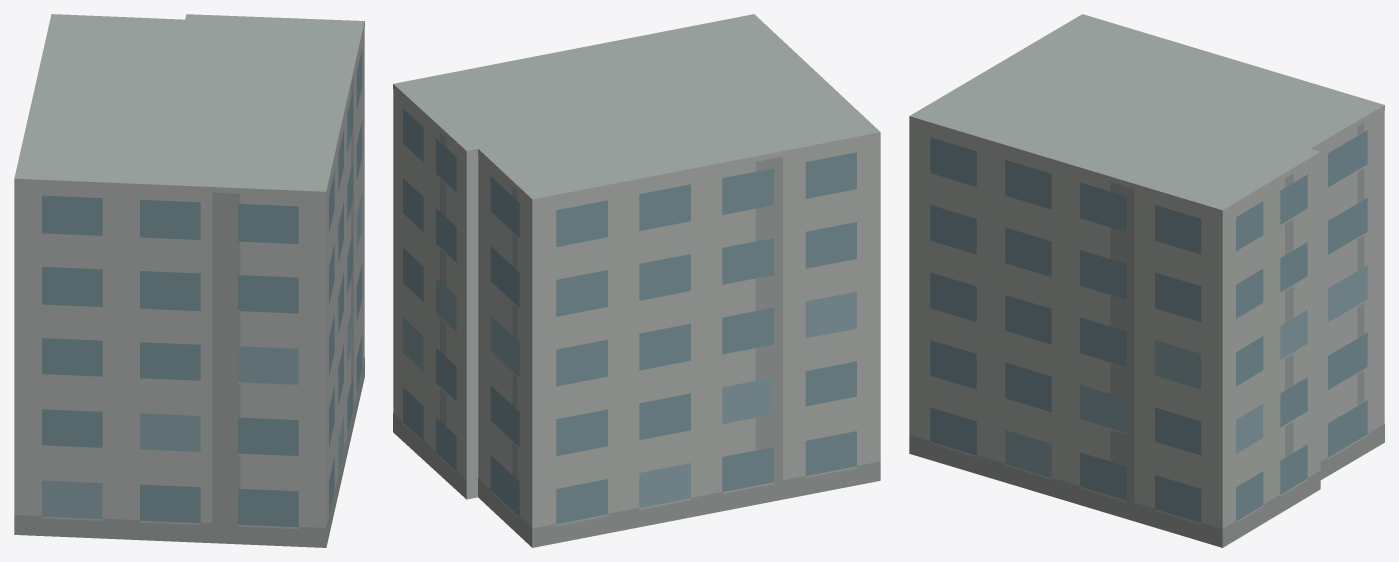
The model's file is survey-upis-32552925.glb.
The picture shows the model from 3 angles, left to right: view 1: azimuth 30°, elevation 25°; view 2: azimuth 150°, elevation 25°; view 3: azimuth 270°, elevation 25°; orthographic projection. The views are drawn at different scales.
Visible parts, largest first — view 1: survey-upis-32552925.tmp; view 2: survey-upis-32552925.tmp; view 3: survey-upis-32552925.tmp.
Part boxes in pixels (x1,y1,x2,y2): survey-upis-32552925.tmp: [14, 14, 364, 547]; survey-upis-32552925.tmp: [393, 14, 880, 547]; survey-upis-32552925.tmp: [909, 14, 1384, 547].
Size of the model in its own units: 19.02 by 15.25 by 19.47.
